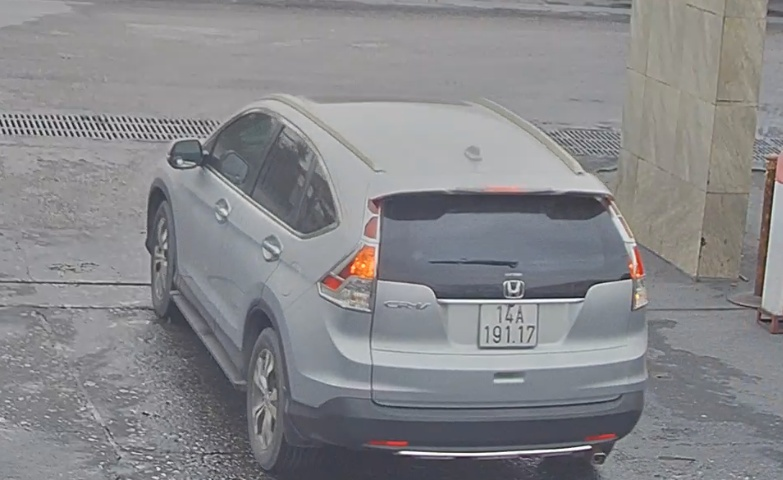vehicle plate: (474, 295, 539, 351)
